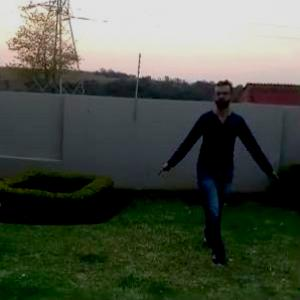land: (166, 72, 284, 270)
